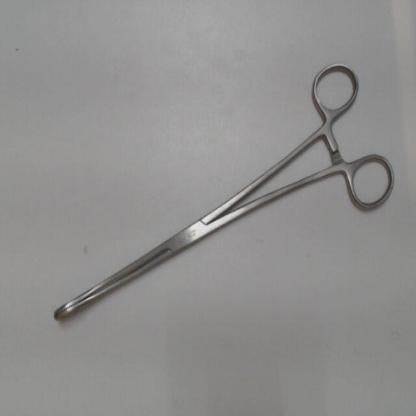Sponge Forceps: (46, 52, 397, 330)
